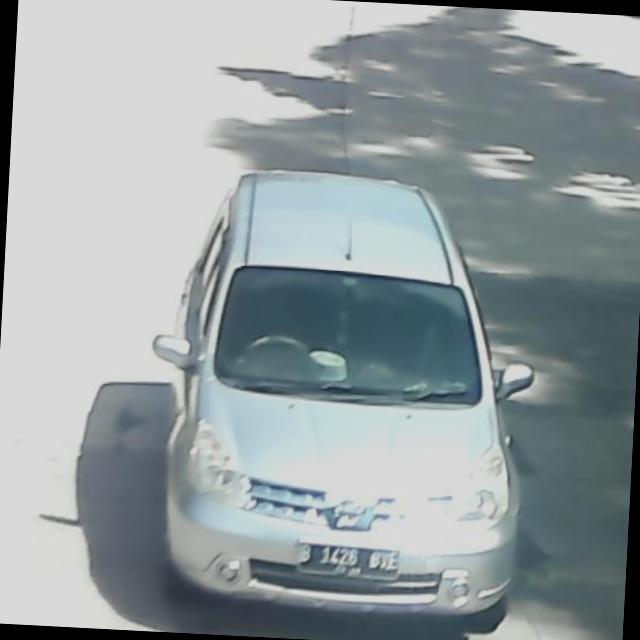plate: (292, 536, 402, 580)
